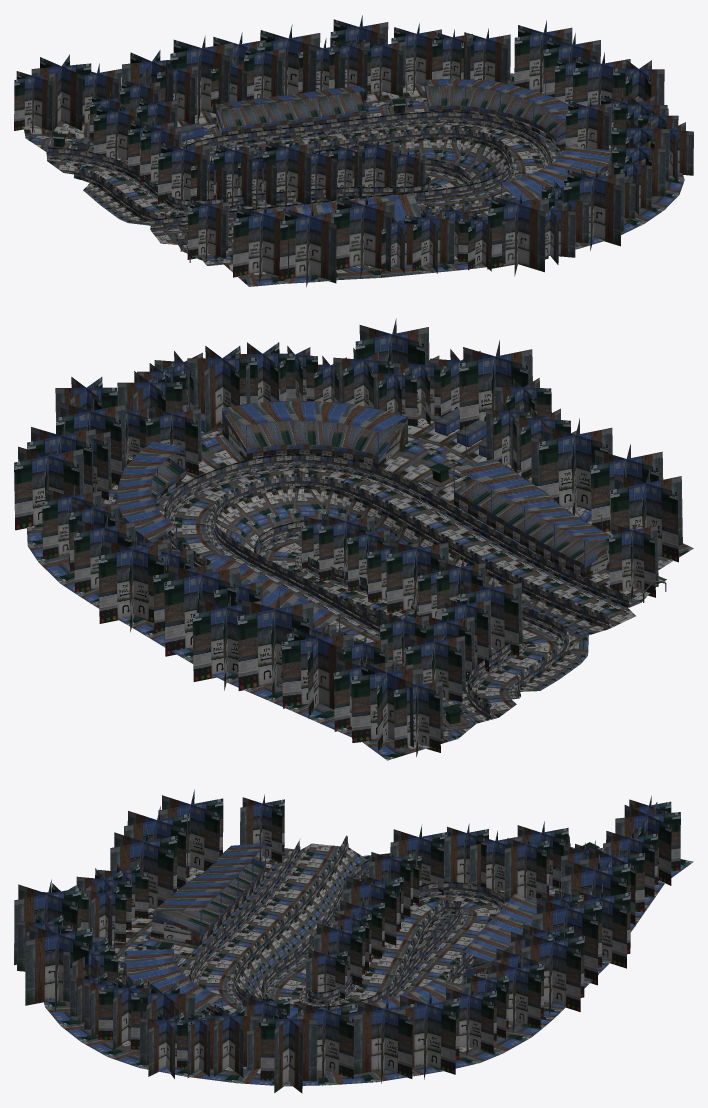
The model's file is nitroultra2.glb.
3 views of the same model, one above another, from view 1: azimuth 30°, elevation 25°; view 2: azimuth 150°, elevation 25°; view 3: azimuth 270°, elevation 25° (orthographic). The views are drawn at different scales.
Visible parts, largest first — view 1: nitroultra2; view 2: nitroultra2; view 3: nitroultra2.
Boxes of the visible parts, left/top/right/bottom form: nitroultra2: left=14, top=15, right=693, bottom=287; nitroultra2: left=14, top=318, right=693, bottom=760; nitroultra2: left=14, top=789, right=693, bottom=1093.
Size of the model in its own units: 299 by 51.8 by 329.
1 material, 1 textured.
